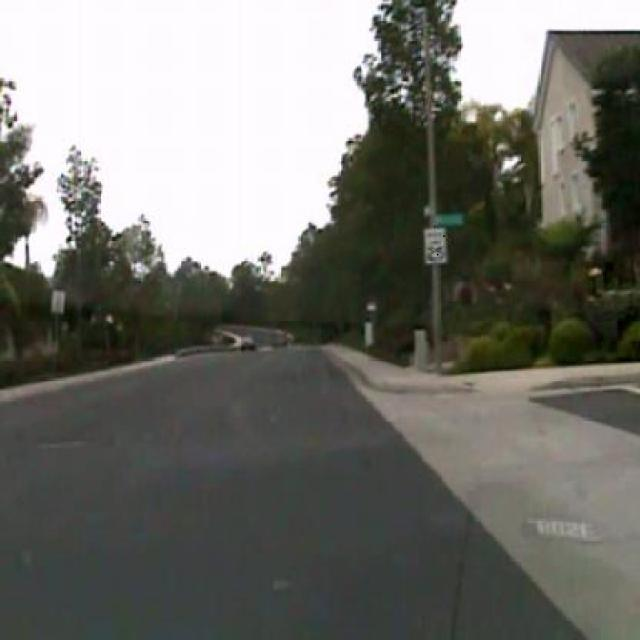speedLimit25: (423, 224, 448, 264)
